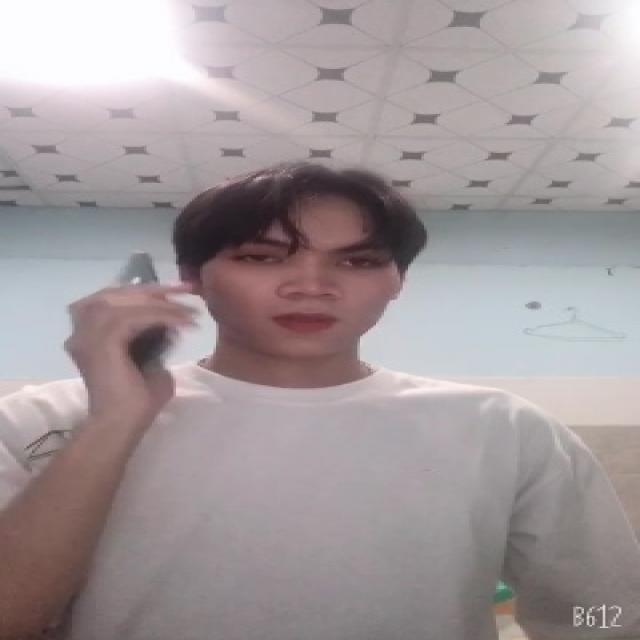Phone: (110, 250, 175, 373)
